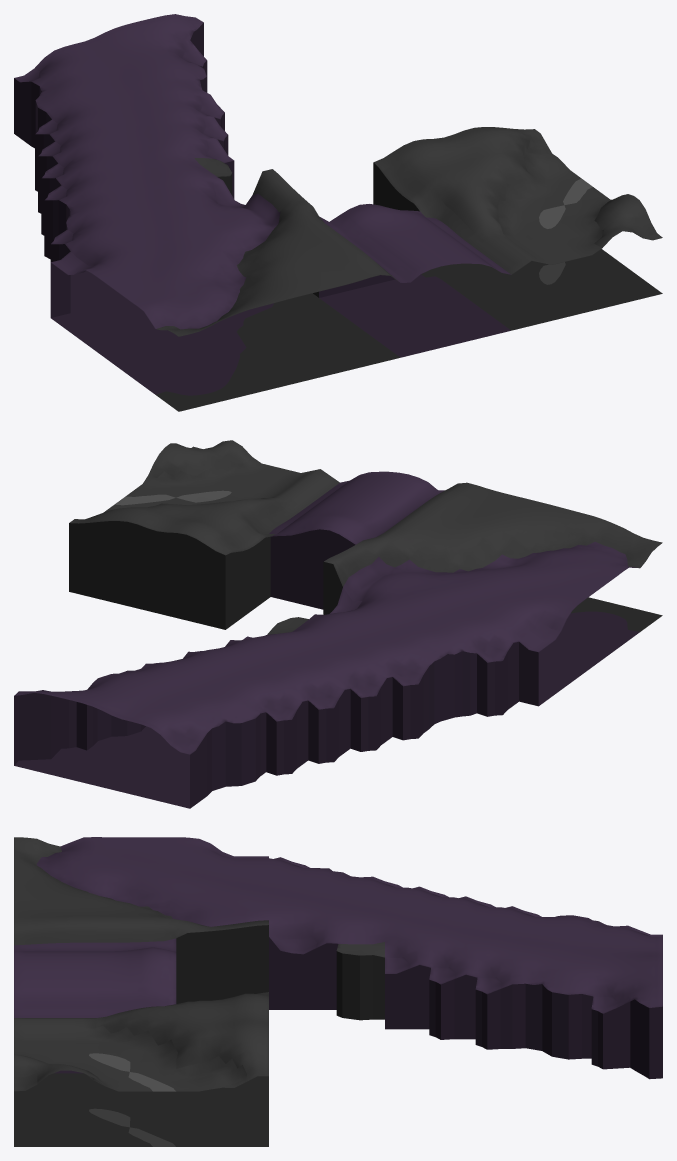
The model's file is delbld-hull-568.glb.
3 views of the same model, one above another, from view 1: azimuth 30°, elevation 25°; view 2: azimuth 150°, elevation 25°; view 3: azimuth 270°, elevation 25° (orthographic). The views are drawn at different scales.
Visible parts, largest first — view 1: delbld-hull-568; view 2: delbld-hull-568; view 3: delbld-hull-568.
Boxes of the visible parts, x1,y1,x2,y2 form: delbld-hull-568: (14, 14, 662, 411); delbld-hull-568: (14, 440, 662, 808); delbld-hull-568: (14, 837, 662, 1146).
Size of the model in its own units: 2 by 0.375 by 2.33.
Materials: 3 (3 with a texture image).
